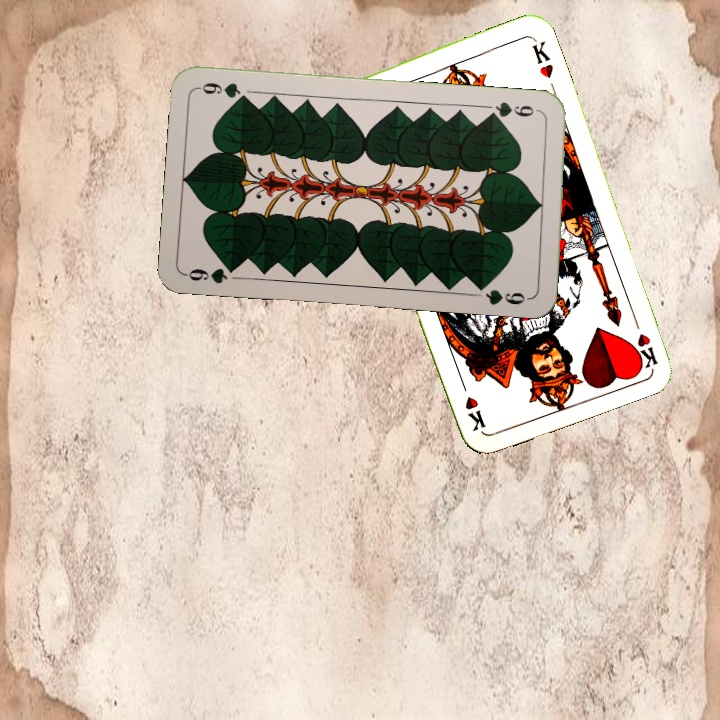G9: (182, 261, 242, 287), (484, 97, 544, 121)
HK: (628, 310, 660, 369)
